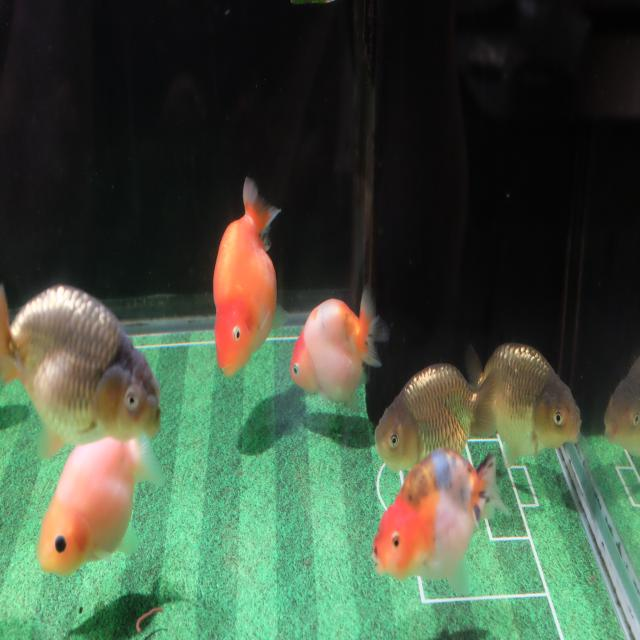Tilapia: (0, 281, 163, 462), (370, 451, 512, 598), (36, 438, 164, 578), (461, 341, 583, 468), (373, 361, 502, 474), (213, 175, 283, 380), (288, 288, 392, 410)
